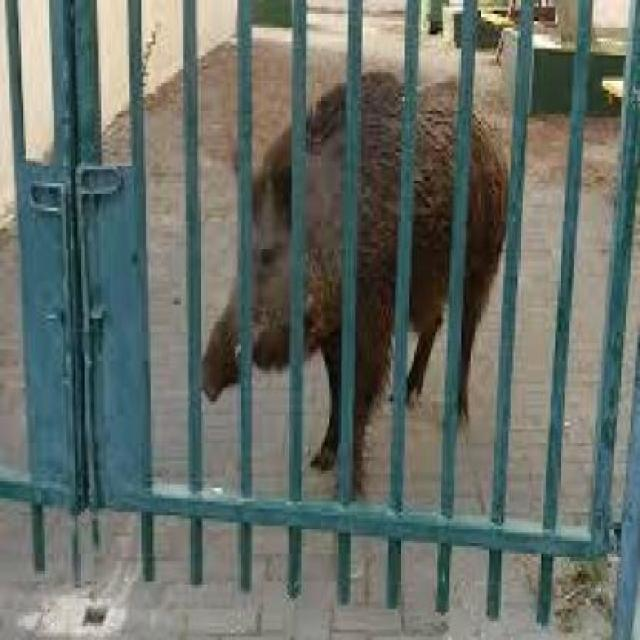Wild Boar: (195, 61, 514, 510)
